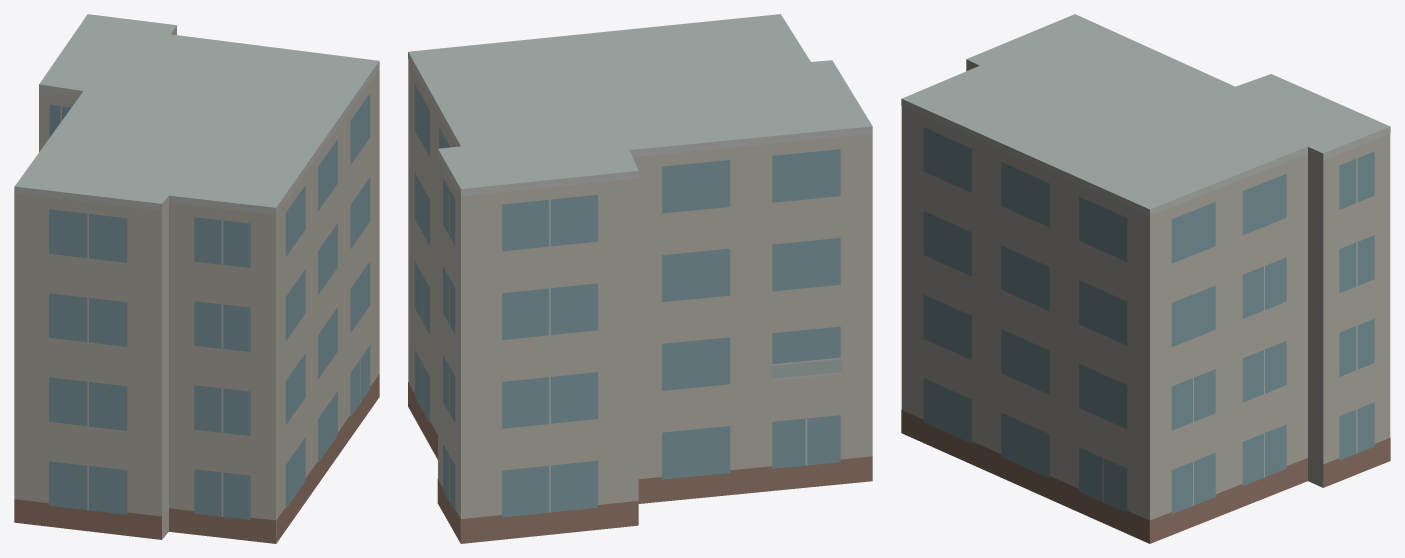
The model's file is survey-upis-32597812.glb.
The picture shows the model from 3 angles, left to right: view 1: azimuth 30°, elevation 25°; view 2: azimuth 150°, elevation 25°; view 3: azimuth 270°, elevation 25°; orthographic projection. The views are drawn at different scales.
Parts seen in each view (by area): view 1: survey-upis-32597812.tmp; view 2: survey-upis-32597812.tmp; view 3: survey-upis-32597812.tmp.
Boxes of the visible parts, x1,y1,x2,y2 form: survey-upis-32597812.tmp: (14, 14, 379, 543); survey-upis-32597812.tmp: (408, 14, 872, 543); survey-upis-32597812.tmp: (901, 14, 1390, 543).
Size of the model in its own units: 14.74 by 11.75 by 15.58.
